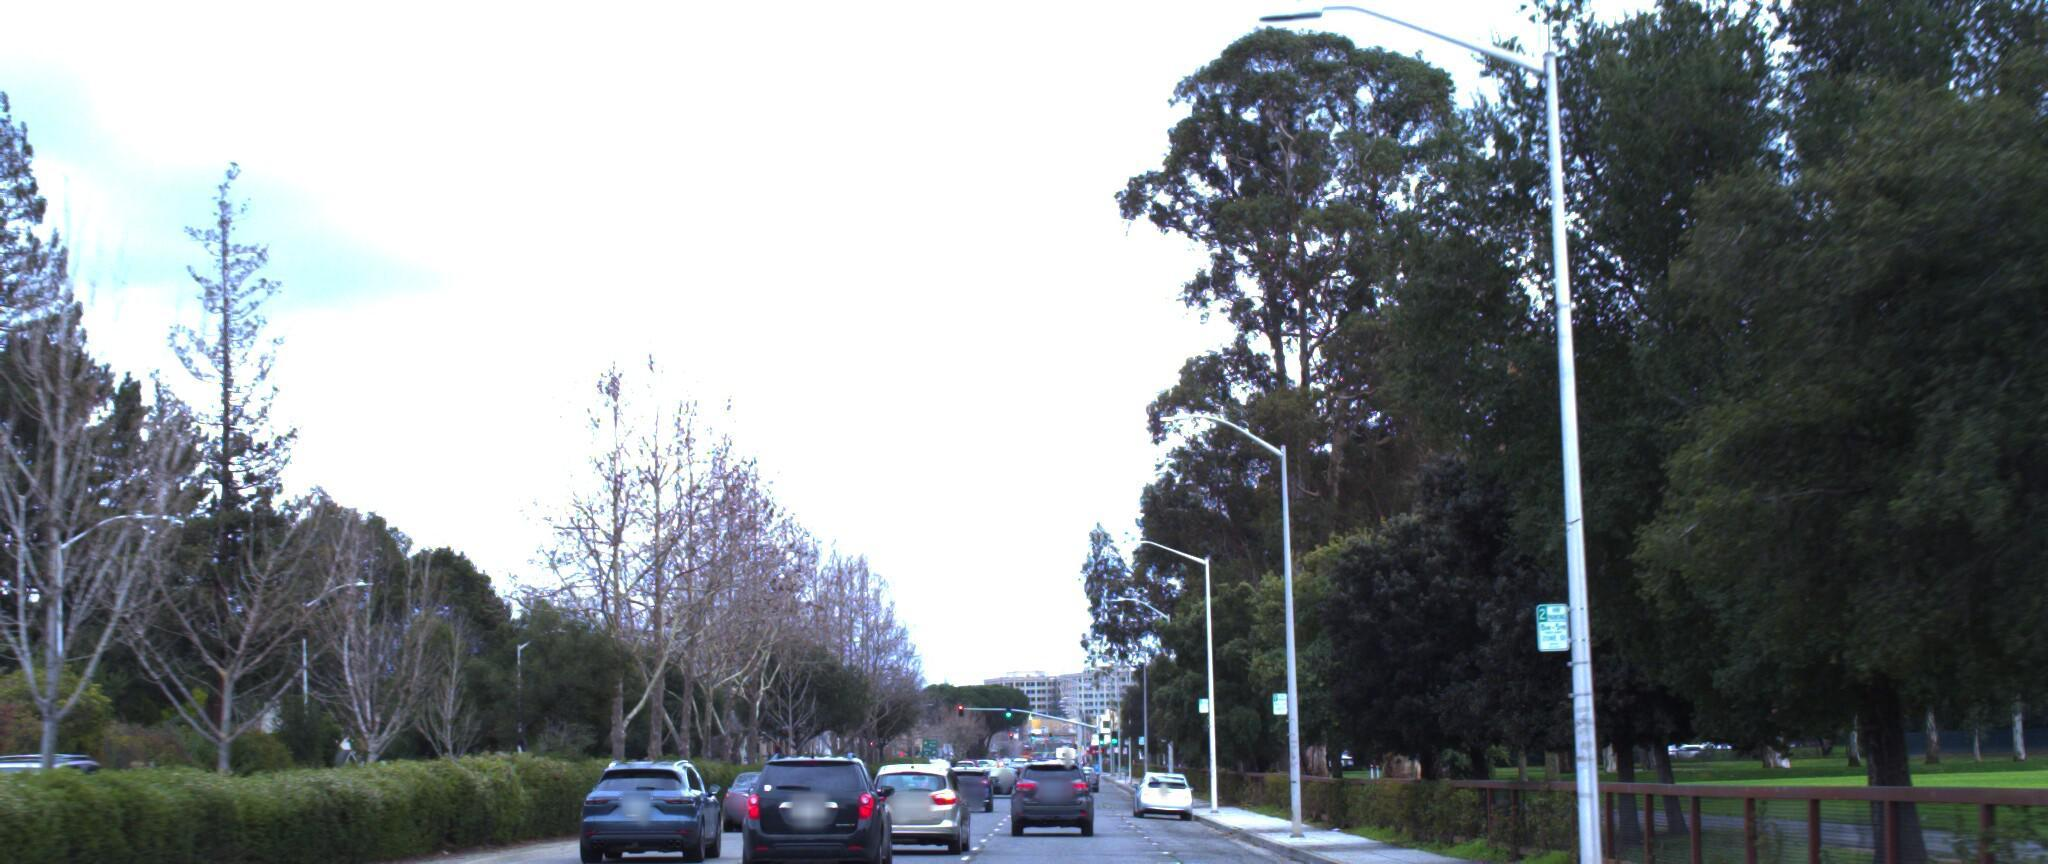car: (747, 750, 903, 864), (581, 757, 730, 864), (865, 767, 980, 863), (1012, 760, 1098, 843)
